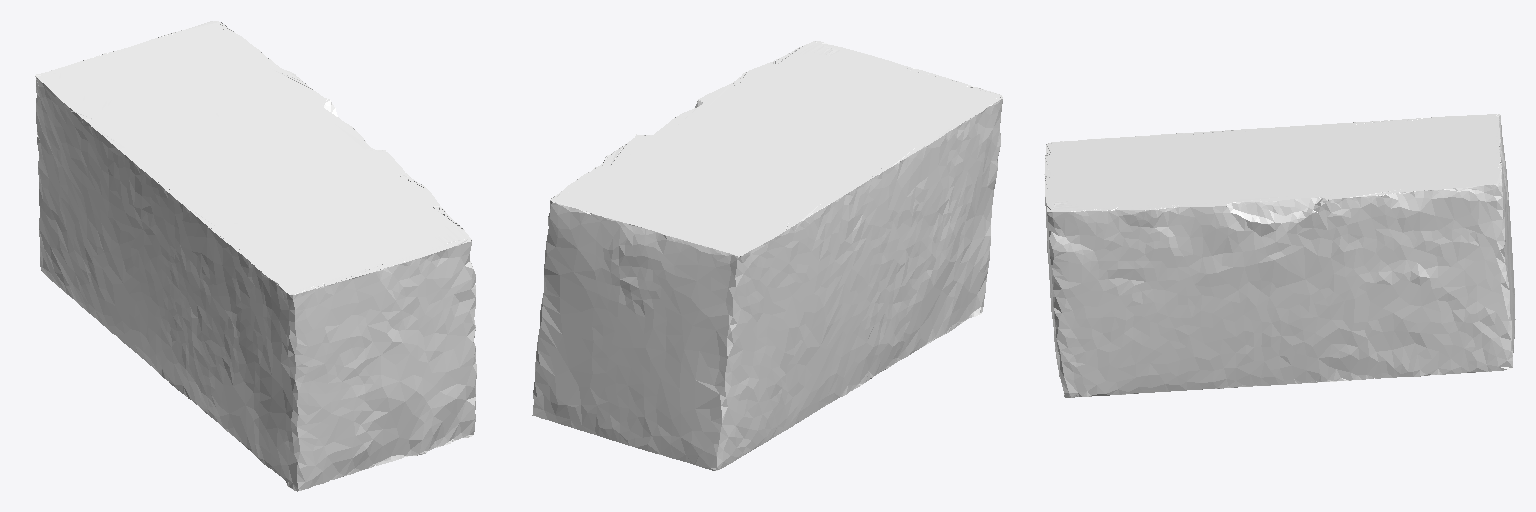
The robot description file, URDF, robot "teagreen":
<?xml version="1.0" ?>
<robot name="teagreen">
 <link name="baseLink">
   <contact>
     <lateral_friction value="0.5"/>
   </contact>
   <inertial>
     <origin rpy="0 0 0" xyz="-0.003245 0.005329 -0.011118"/>
      <mass value="1.0"/>
      <inertia ixx="0.000002" ixy="-0.000000" ixz="-0.000000" iyy="0.000001" iyz="-0.000000" izz="0.000002"/>
   </inertial>
   <visual>
     <origin rpy="0 0 0" xyz="0 0 0"/>
     <geometry>
       <mesh filename="teagreen.obj" scale="1.0 1.0 1.0"/>
     </geometry>
      <material name="white">
       <color rgba="1 1 1 1"/>
     </material>
   </visual>
   <collision>
     <origin rpy="0 0 0" xyz="0 0 0"/>
     <geometry>
       <mesh filename="teagreen_vhacd2.obj" scale="1.0 1.0 1.0"/>
     </geometry>
   </collision>
 </link>
</robot>

--- Render facts (derived) ---
3 views of the same robot in one strip: view 1: azimuth 30°, elevation 25°; view 2: azimuth 150°, elevation 25°; view 3: azimuth 270°, elevation 25° (orthographic).
Model teagreen with 1 links and 0 joints (none), rooted at baseLink, posed all joints at 0.
Visible links, largest first — view 1: baseLink; view 2: baseLink; view 3: baseLink.
Link boxes in pixels (x1,y1,x2,y2): baseLink: (35,21,476,491); baseLink: (532,41,1002,470); baseLink: (1044,114,1515,397).
Bounding box of the posed robot: 0.072 × 0.1637 × 0.0838 m (x, y, z).
1 mesh visuals loaded from 1 distinct referenced files (1 OBJ).